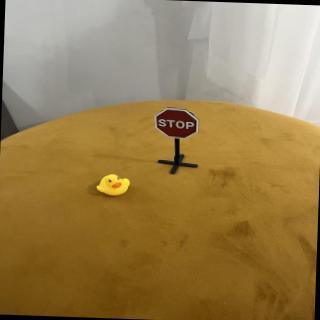duck_regular: (96, 172, 133, 200)
sign_stop: (155, 107, 202, 143)
